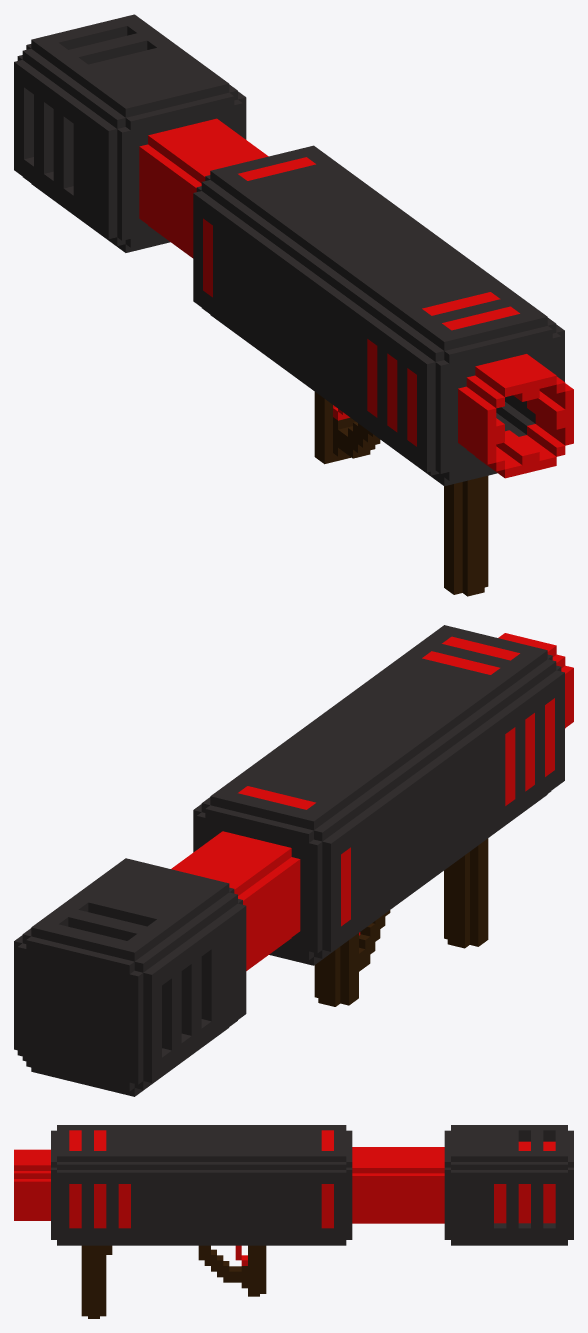
File: rl_overload.obj
3 views of the same model, one above another, from view 1: azimuth 30°, elevation 25°; view 2: azimuth 150°, elevation 25°; view 3: azimuth 270°, elevation 25° (orthographic). The views are drawn at different scales.
Size of the model in its own units: 1.6 by 3.1 by 9.1.
Materials: 1 (1 with a texture image).
